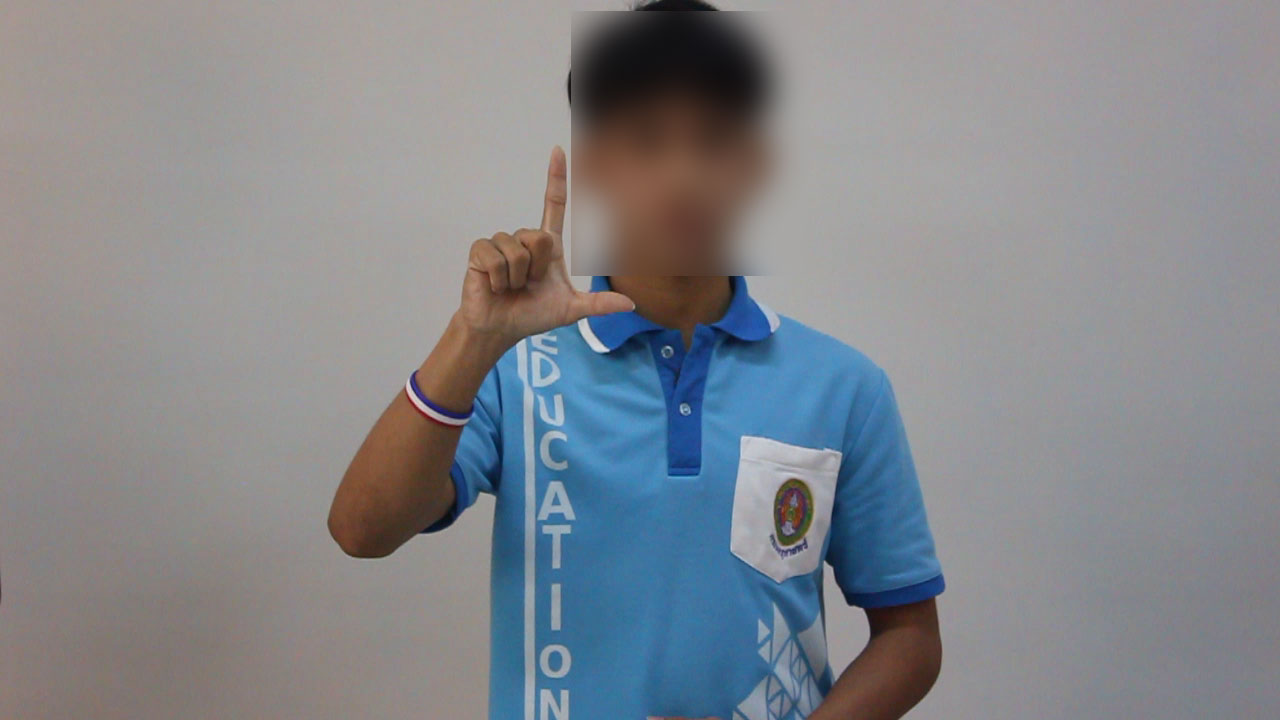lor: (416, 102, 647, 353)
